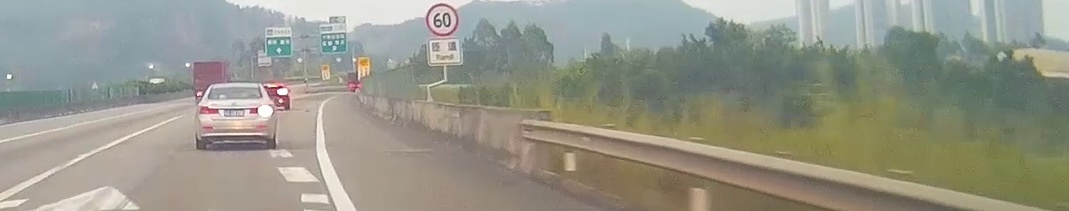L_light: (198, 106, 219, 114)
R_light: (249, 106, 274, 115)
T_light: (228, 87, 241, 91)
day-right: (196, 83, 276, 149)
